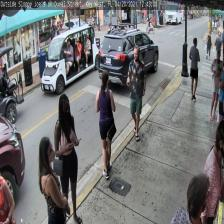person: (95, 70, 115, 178), (188, 37, 200, 99)
